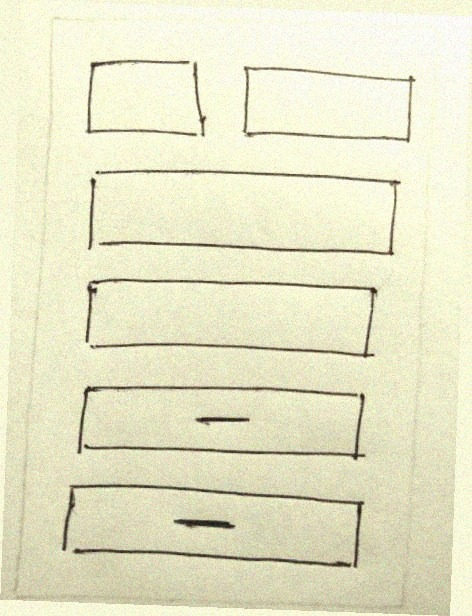button: (50, 474, 376, 580), (67, 372, 375, 474)
text_input: (79, 158, 409, 269), (75, 269, 391, 372), (232, 56, 427, 156), (75, 51, 220, 144)
